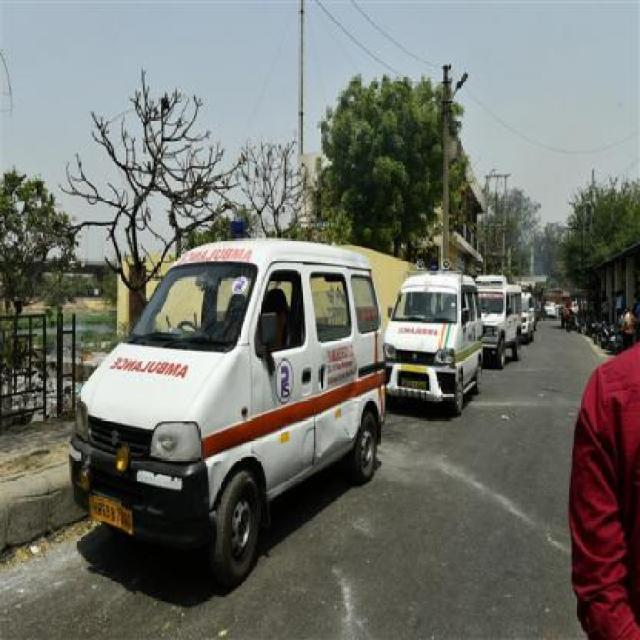Ambulance: (0, 304, 634, 638), (63, 229, 391, 591), (378, 264, 488, 418), (471, 270, 526, 372)
